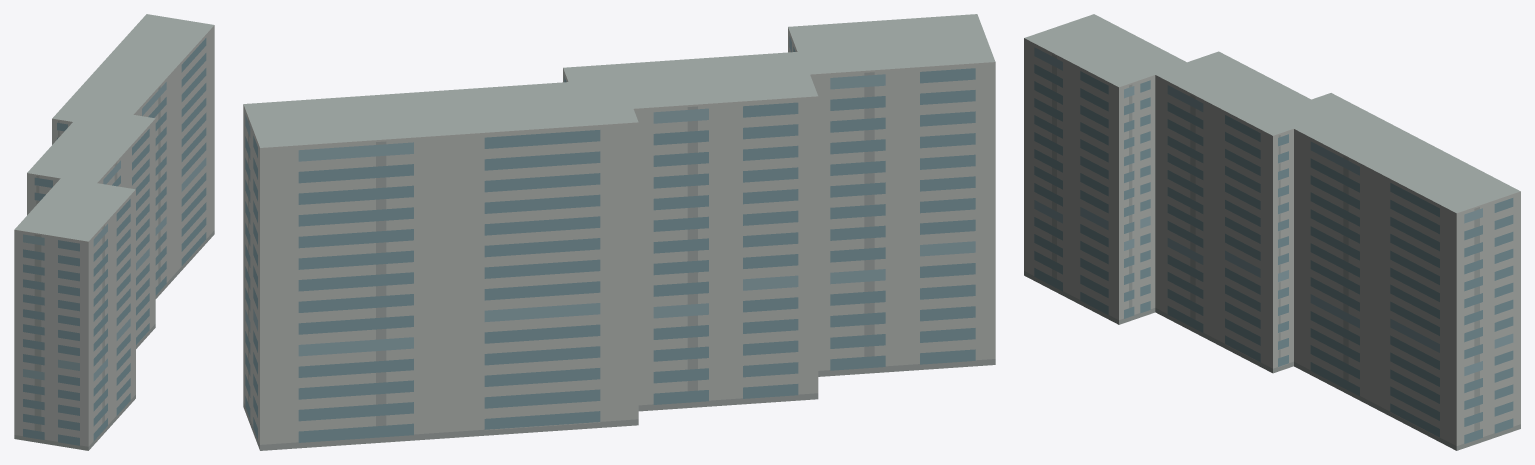
Rendered from residential-22e72c14-233d-4282-9624-44e058bfd792.glb.
The picture shows the model from 3 angles, left to right: view 1: azimuth 30°, elevation 25°; view 2: azimuth 150°, elevation 25°; view 3: azimuth 270°, elevation 25°; orthographic projection. The views are drawn at different scales.
Visible parts, largest first — view 1: residential-22e72c14-233d-4282-9624-44e058bfd792.tmp; view 2: residential-22e72c14-233d-4282-9624-44e058bfd792.tmp; view 3: residential-22e72c14-233d-4282-9624-44e058bfd792.tmp.
Boxes of the visible parts, box(x1,y1,x2,y2) form: residential-22e72c14-233d-4282-9624-44e058bfd792.tmp: box(14, 14, 214, 450); residential-22e72c14-233d-4282-9624-44e058bfd792.tmp: box(243, 14, 995, 450); residential-22e72c14-233d-4282-9624-44e058bfd792.tmp: box(1024, 14, 1520, 450).
Bounding box in the file's own units: 68.41 × 38 × 72.01.
